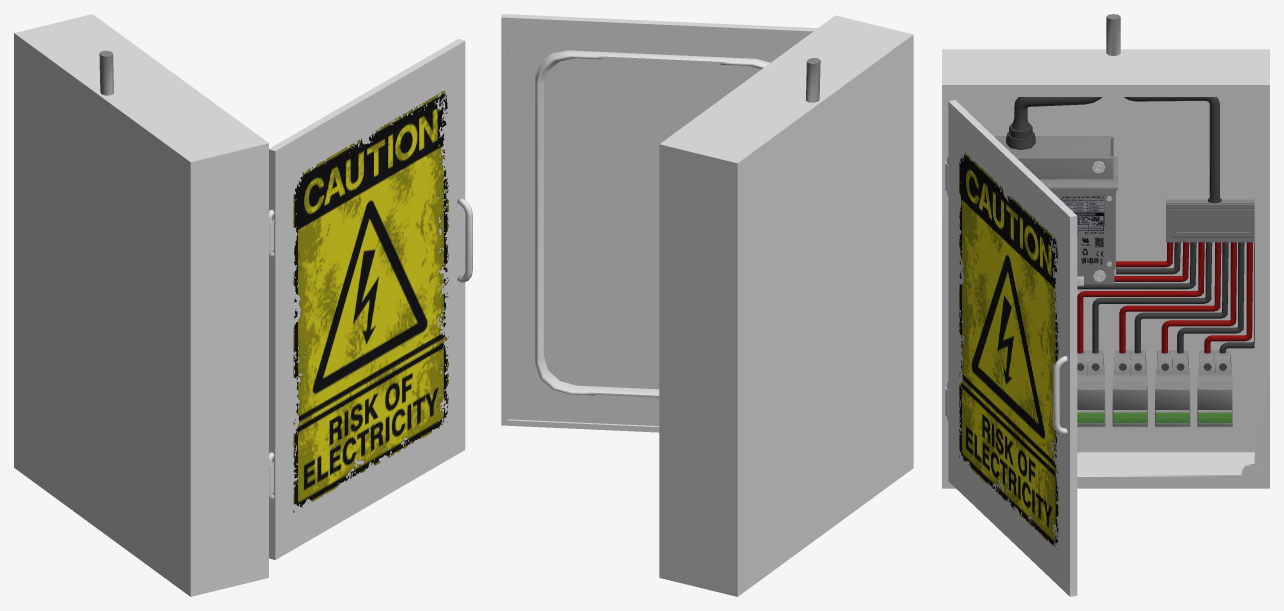
The model's file is SkrzynkaElektryczna.fbx.
The picture shows the model from 3 angles, left to right: view 1: azimuth 30°, elevation 25°; view 2: azimuth 150°, elevation 25°; view 3: azimuth 270°, elevation 25°; orthographic projection. The views are drawn at different scales.
Parts seen in each view (by area): view 1: Electrical Box, Electrical Door; view 2: Electrical Box, Electrical Door; view 3: Electrical Box, Electrical Door, Akumulator.
Boxes of the visible parts, left/top/right/bottom form: Electrical Box: left=14, top=14, right=273, bottom=596; Electrical Door: left=269, top=39, right=472, bottom=559; Electrical Box: left=659, top=15, right=913, bottom=596; Electrical Door: left=501, top=14, right=817, bottom=432; Electrical Box: left=942, top=14, right=1269, bottom=488; Electrical Door: left=947, top=100, right=1077, bottom=596; Akumulator: left=994, top=136, right=1117, bottom=284.
Bounding box in the file's own units: 0.3874 × 0.5104 × 0.3447.
